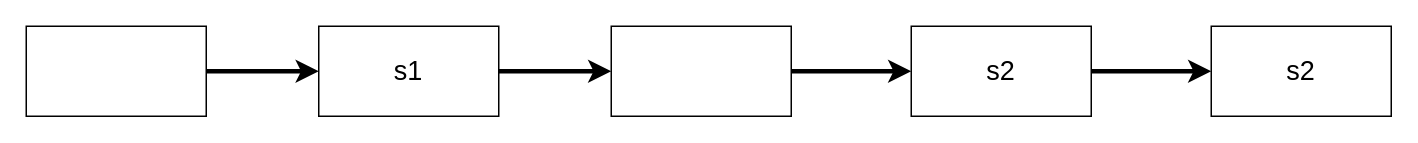
The diagram is 1418 pixels wide and 143 high, and some of its shapes have lost their labels. The centre of each missing label's shape, as x and y in pixels:
"frontend" goes at point 115,70.
"r1" goes at point 700,70.
